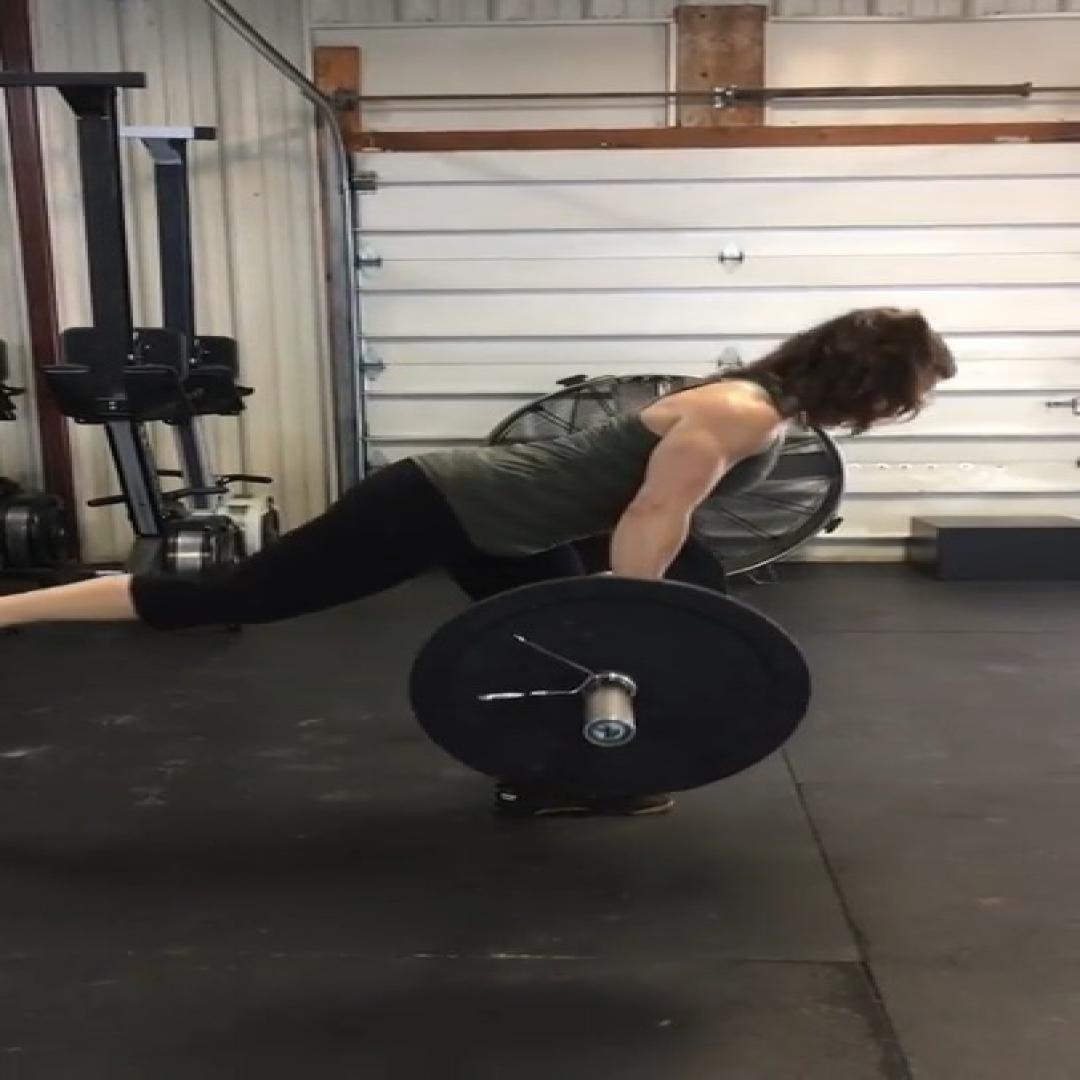Bar: (580, 716, 638, 748)
Barbell: (407, 574, 814, 796)
